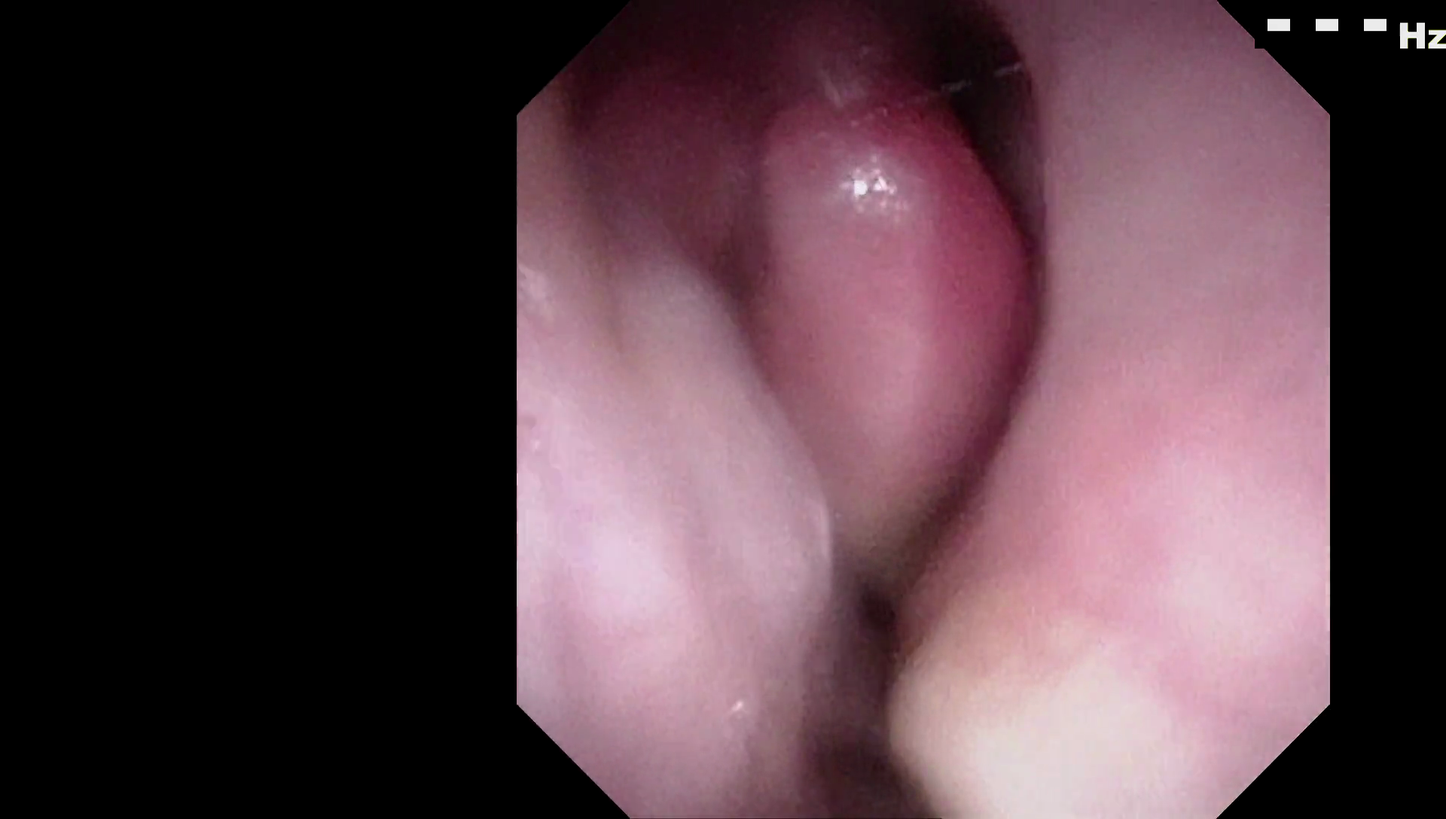close_wall: (941, 284, 1321, 819), (524, 270, 810, 689)
next: (755, 495, 965, 819), (861, 0, 1040, 191)
